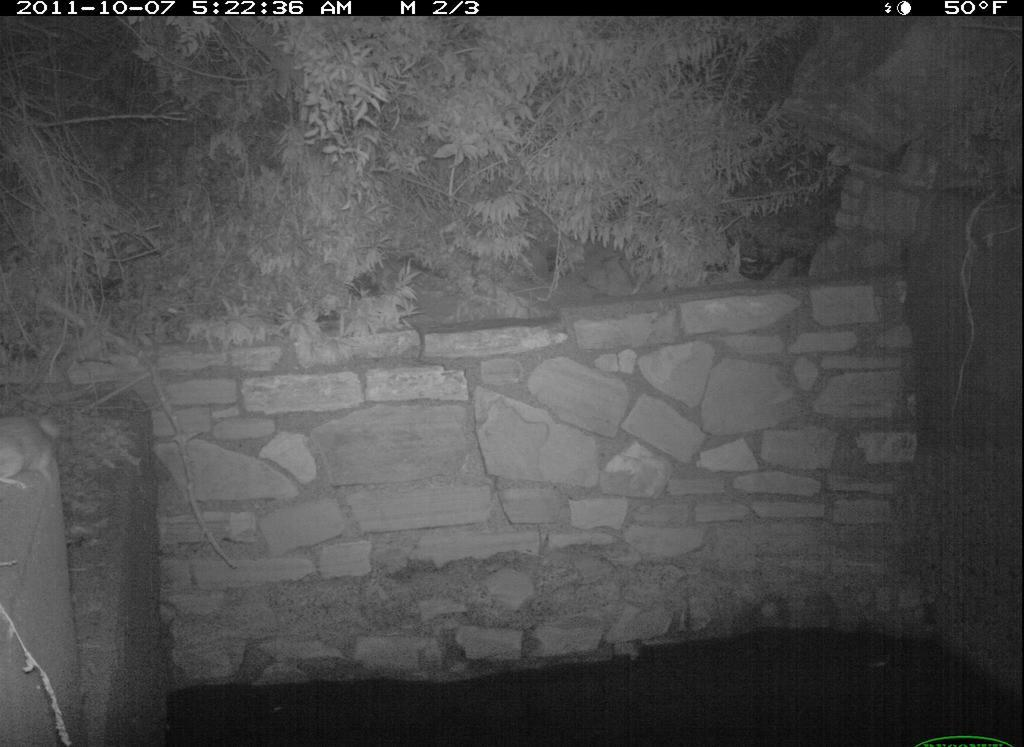rodent: (1, 399, 72, 499)
